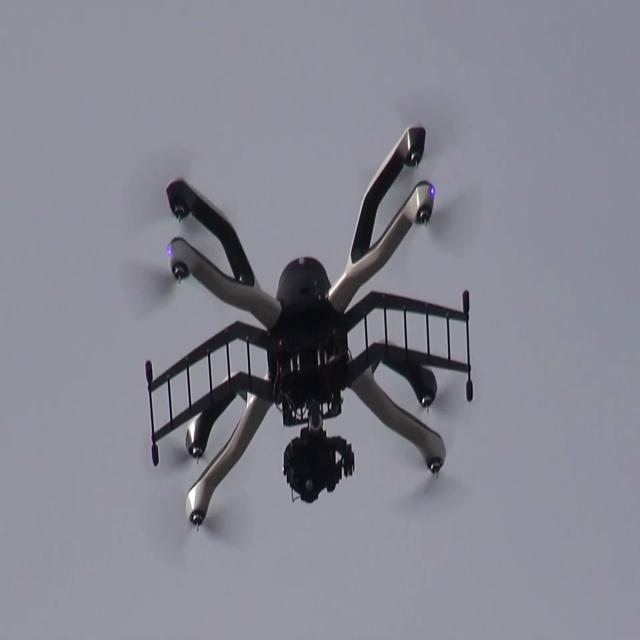drone: (143, 133, 480, 569)
